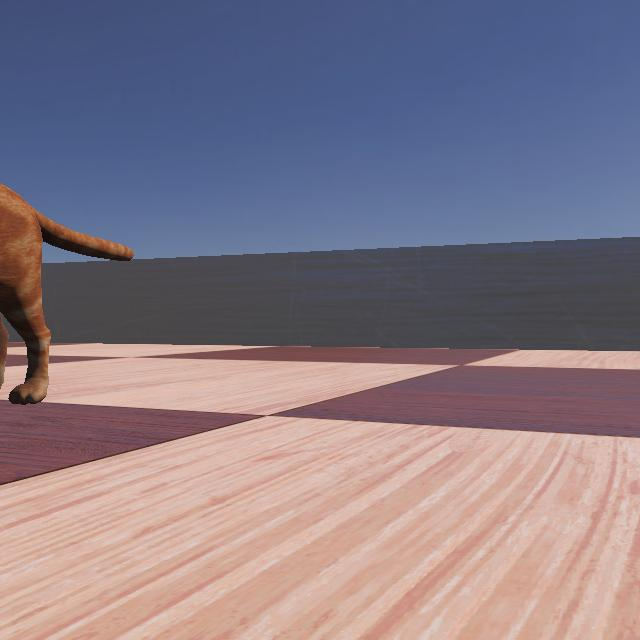cat: (0, 114, 140, 442)
